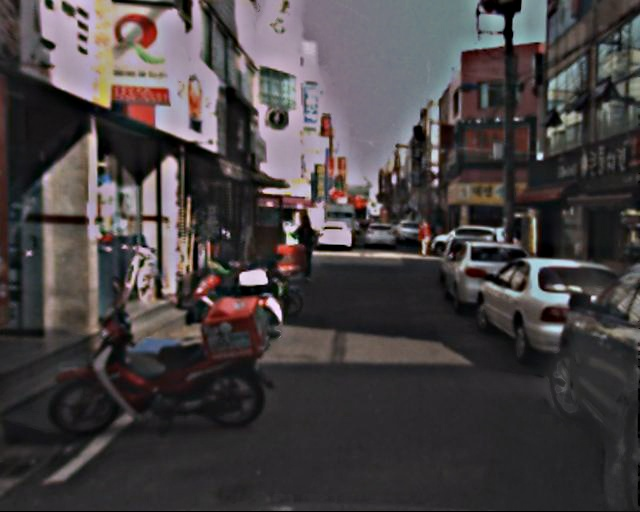person: (292, 215, 320, 284), (417, 221, 433, 258)
